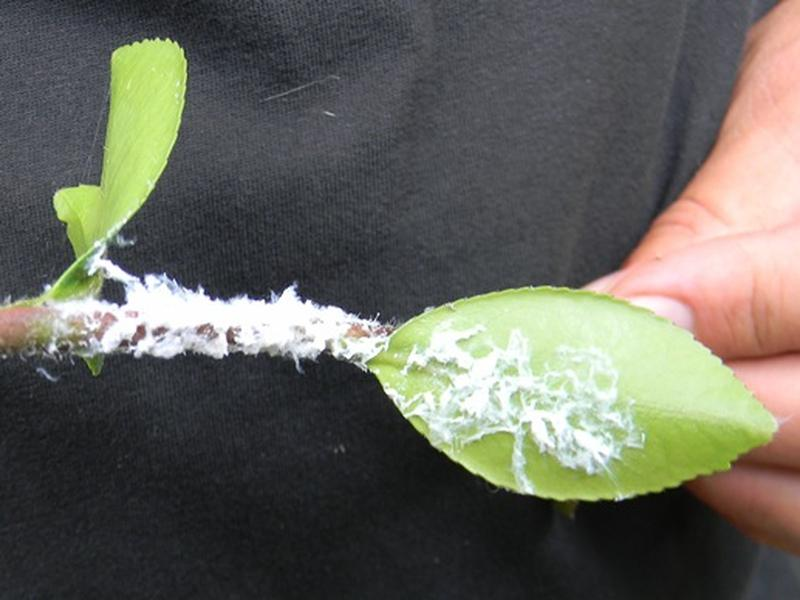Mealy_bug: (37, 244, 389, 385), (420, 331, 647, 474)
